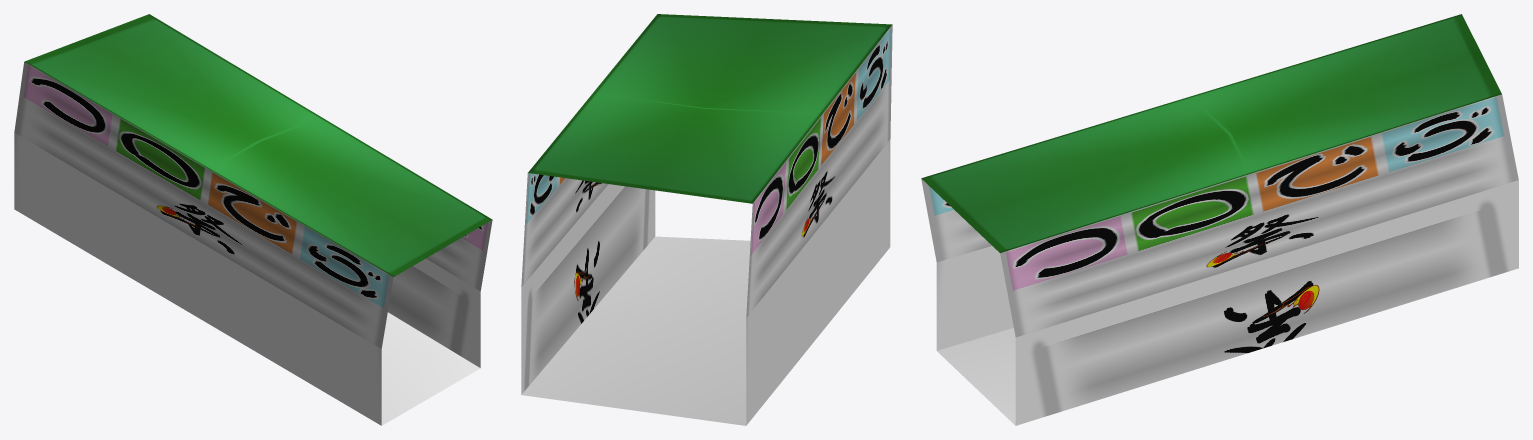
The model's file is CourseAki_Wall_R_7_7.fbx.
3 renders of one model, left to right at view 1: azimuth 30°, elevation 25°; view 2: azimuth 150°, elevation 25°; view 3: azimuth 270°, elevation 25°, orthographic. The views are drawn at different scales.
Visible parts, largest first — view 1: polySurface418; view 2: polySurface418; view 3: polySurface418.
Part boxes in pixels (<box>): polySurface418: <box>14,14,492,425</box>; polySurface418: <box>521,14,892,425</box>; polySurface418: <box>921,14,1518,425</box>.
Bounding box in the file's own units: 3.69 × 2.98 × 6.12.
1 material, 1 textured.
